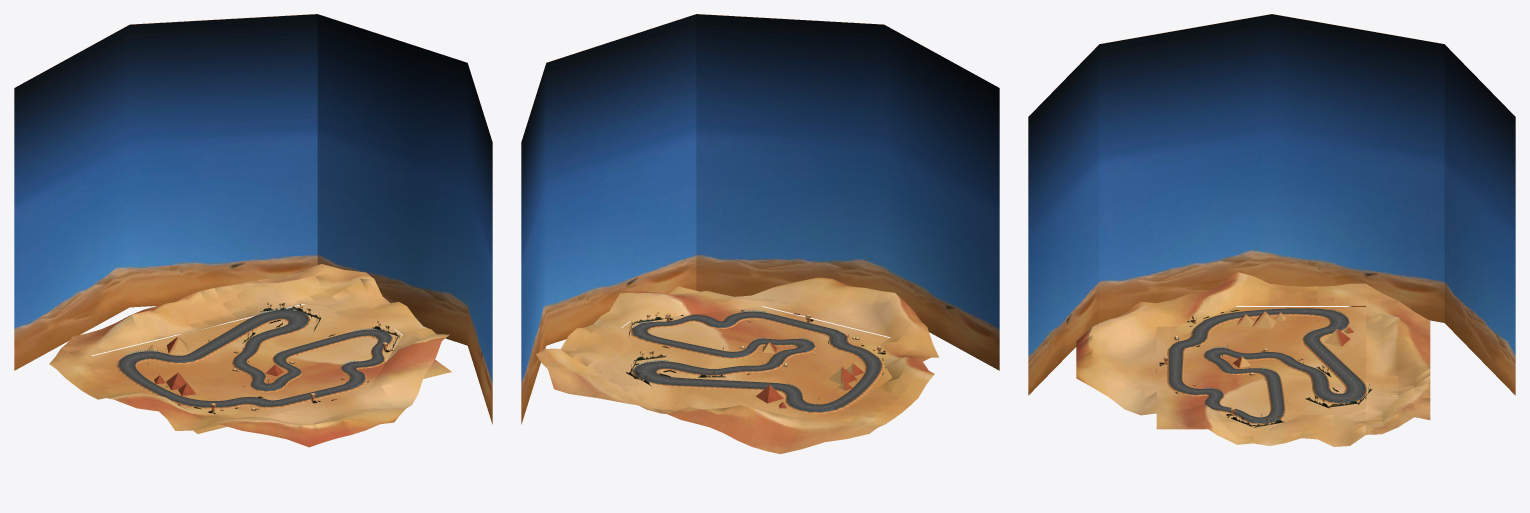
File: registan.glb
The picture shows the model from 3 angles, left to right: view 1: azimuth 30°, elevation 25°; view 2: azimuth 150°, elevation 25°; view 3: azimuth 270°, elevation 25°; orthographic projection.
Visible parts, largest first — view 1: Box001, default_shamo_0, Object487_shamo_0, Object512_lu2_0, Object479_bian_0, Box017, Object510_yinying_0; view 2: Box001, default_shamo_0, Object487_shamo_0, Object512_lu2_0, Object479_bian_0, Box017, Object510_yinying_0; view 3: Box001, default_shamo_0, Object487_shamo_0, Object512_lu2_0, Object479_bian_0, Box017, Object510_yinying_0.
Part boxes in pixels (<box>): Box001: <box>14,14,492,424</box>; default_shamo_0: <box>49,264,449,447</box>; Object487_shamo_0: <box>92,298,451,433</box>; Object512_lu2_0: <box>119,309,391,406</box>; Object479_bian_0: <box>116,311,393,409</box>; Box017: <box>147,337,391,413</box>; Object510_yinying_0: <box>148,302,399,413</box>; Box001: <box>521,14,999,424</box>; default_shamo_0: <box>536,277,938,453</box>; Object487_shamo_0: <box>590,286,891,425</box>; Object512_lu2_0: <box>633,311,880,411</box>; Object479_bian_0: <box>630,313,883,413</box>; Box017: <box>665,313,884,408</box>; Object510_yinying_0: <box>626,312,885,386</box>; Box001: <box>1028,14,1515,395</box>; default_shamo_0: <box>1076,272,1430,446</box>; Object487_shamo_0: <box>1156,307,1365,429</box>; Object512_lu2_0: <box>1169,308,1365,422</box>; Object479_bian_0: <box>1167,308,1366,424</box>; Box017: <box>1160,311,1353,416</box>; Object510_yinying_0: <box>1159,320,1372,427</box>.
Size of what is drawn, in the model's own units: 23.97 by 15.13 by 23.97.
Materials: 10 (9 with a texture image).
